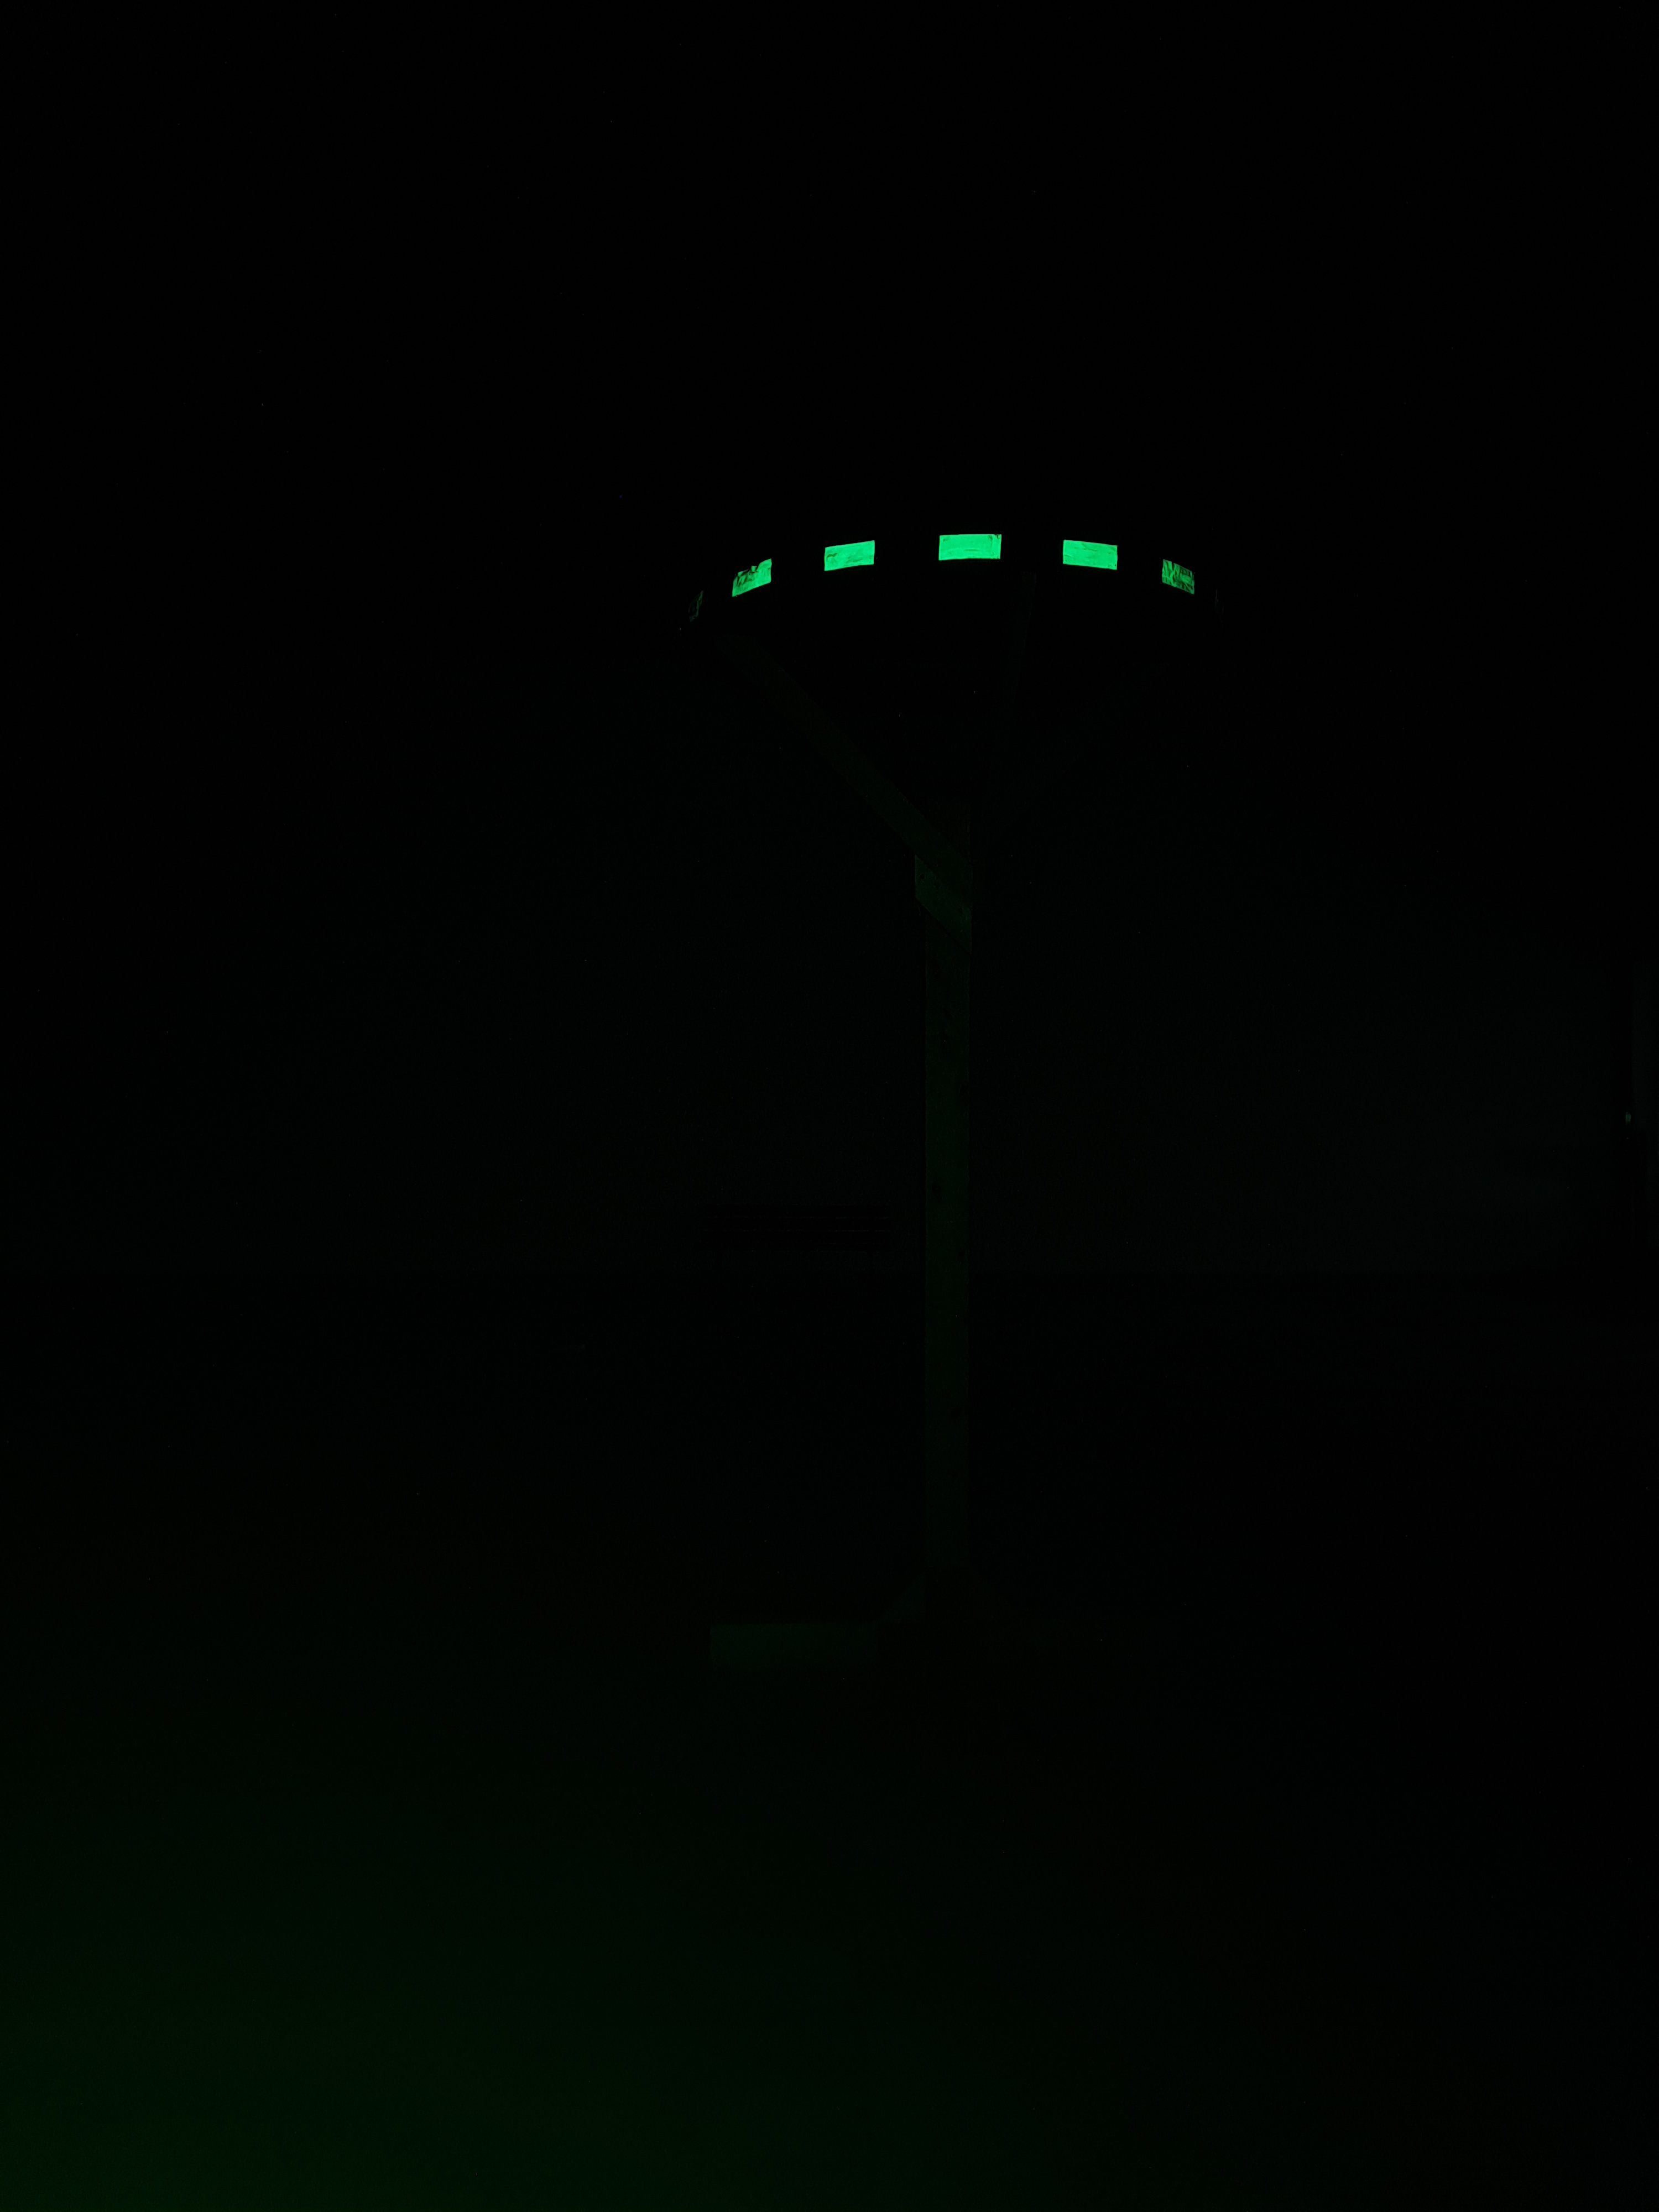hoop: (732, 531, 1190, 603)
